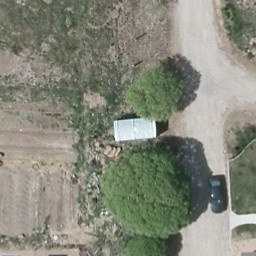car: (201, 174, 229, 215)
